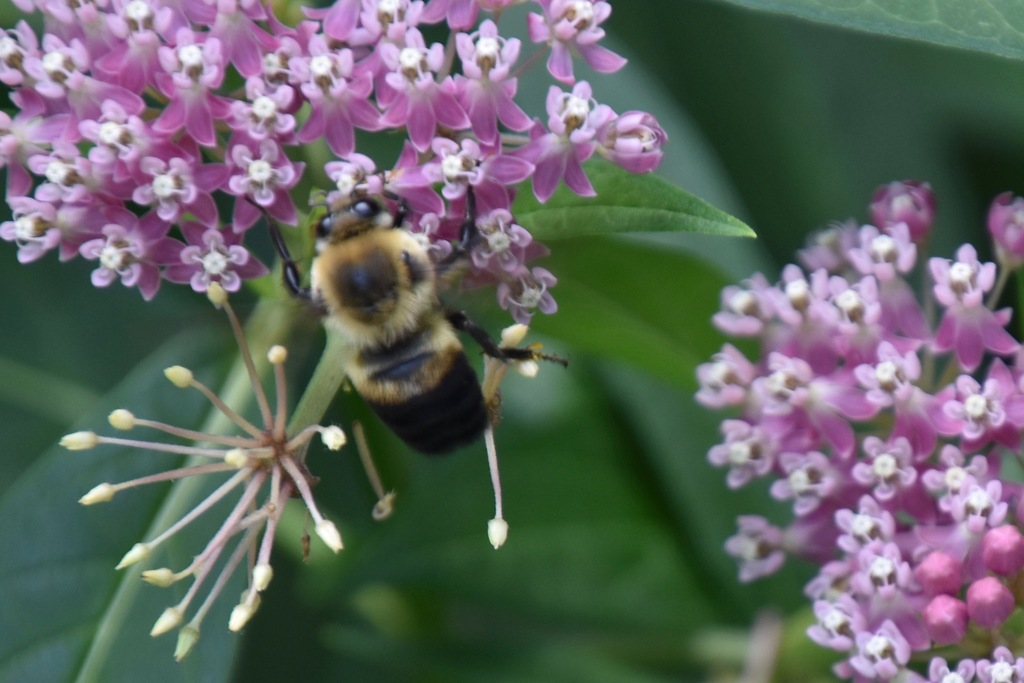bumblebee: (242, 179, 571, 460)
